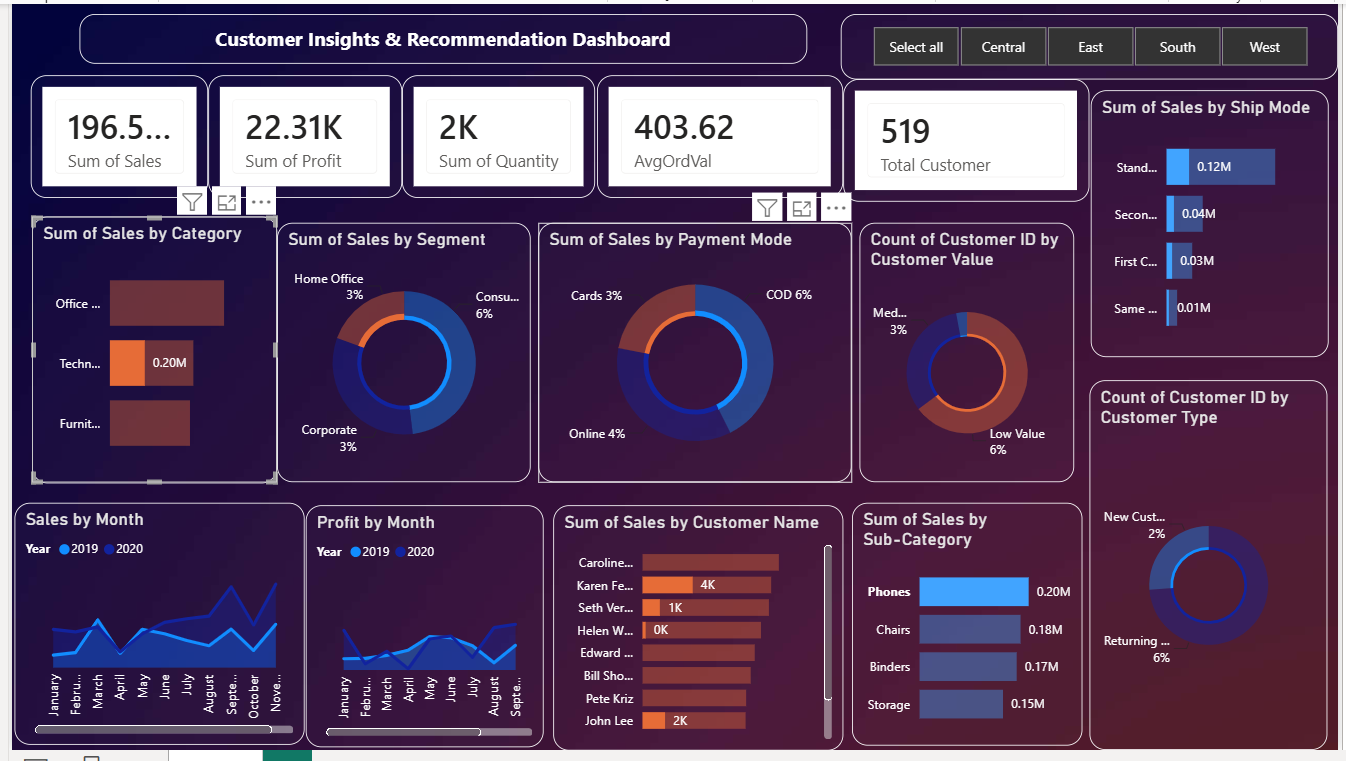

This screenshot's page, from the dashboard's own definition file:
{"tool":"powerbi","page":{"name":"Page 1","canvas":[1280,720],"ordinal":0},"visuals":[{"type":"clusteredBarChart","fields":{"Category":["SuperStore_Sales_Dataset.Category"],"Y":["Sum(SuperStore_Sales_Dataset.Sales)"]},"box":[19.6,204.5,236.7,257.7],"z":0},{"type":"clusteredBarChart","fields":{"Category":["SuperStore_Sales_Dataset.Sub-Category"],"Y":["Sum(SuperStore_Sales_Dataset.Sales)"]},"box":[811,481.6,222.3,234.6],"z":1000},{"type":"clusteredBarChart","fields":{"Category":["SuperStore_Sales_Dataset.Ship Mode"],"Y":["Sum(SuperStore_Sales_Dataset.Sales)"]},"box":[1040.8,82.6,229.7,257.7],"z":2000},{"type":"areaChart","title":" Sales by Month","fields":{"Y":["Sum(SuperStore_Sales_Dataset.Sales)"],"Category":["SuperStore_Sales_Dataset.Order Date.Variation.Date Hierarchy.Month","SuperStore_Sales_Dataset.Order Date.Variation.Date Hierarchy.Day"],"Series":["SuperStore_Sales_Dataset.Order Date.Variation.Date Hierarchy.Year"]},"box":[2.8,481.9,280.1,233.9],"z":3000},{"type":"areaChart","title":"Profit by Month ","fields":{"Category":["SuperStore_Sales_Dataset.Order Date.Variation.Date Hierarchy.Month","SuperStore_Sales_Dataset.Order Date.Variation.Date Hierarchy.Day"],"Series":["SuperStore_Sales_Dataset.Order Date.Variation.Date Hierarchy.Year"],"Y":["Sum(SuperStore_Sales_Dataset.Profit)"]},"box":[283,483.3,229.7,233.9],"z":4000},{"type":"donutChart","fields":{"Category":["SuperStore_Sales_Dataset.Segment"],"Y":["Sum(SuperStore_Sales_Dataset.Sales)"]},"box":[256.3,211.5,245.1,250.7],"z":5000},{"type":"donutChart","fields":{"Category":["SuperStore_Sales_Dataset.Payment Mode"],"Y":["Sum(SuperStore_Sales_Dataset.Sales)"]},"box":[508.5,211.5,302.6,250.7],"z":6000},{"type":"slicer","fields":{"Values":["SuperStore_Sales_Dataset.Region"]},"box":[800,9.6,480.3,63.1],"z":7000},{"type":"cardVisual","fields":{"Data":["Sum(SuperStore_Sales_Dataset.Sales)"]},"box":[18.1,68.8,171.3,118.2],"z":8000},{"type":"cardVisual","fields":{"Data":["Sum(SuperStore_Sales_Dataset.Profit)"]},"box":[189.4,68.8,187,118.2],"z":9000},{"type":"cardVisual","fields":{"Data":["Sum(SuperStore_Sales_Dataset.Quantity)"]},"box":[376,68.6,186.6,118],"z":10000},{"type":"cardVisual","fields":{"Data":["SuperStore_Sales_Dataset.AvgOrdVal"]},"box":[564.6,68.8,237.7,118.2],"z":11000},{"type":"cardVisual","fields":{"Data":["CountNonNull(SuperStore_Sales_Dataset.Customer Name)"]},"box":[802.7,72.7,237.4,118],"z":12000},{"type":"donutChart","fields":{"Category":["SuperStore_Sales_Dataset.Customer Type"],"Y":["CountNonNull(SuperStore_Sales_Dataset.Customer ID)"]},"box":[1039.4,362.8,229.7,357.2],"z":13000},{"type":"donutChart","fields":{"Category":["SuperStore_Sales_Dataset.Customer Value"],"Y":["CountNonNull(SuperStore_Sales_Dataset.Customer ID)"]},"box":[818,211.5,207.3,250.7],"z":13001},{"type":"clusteredBarChart","fields":{"Category":["SuperStore_Sales_Dataset.Customer Name"],"Y":["Sum(SuperStore_Sales_Dataset.Sales)"]},"box":[522.5,483.3,280.1,236.7],"z":13002},{"type":"textbox","box":[65.1,9.7,702.1,48.3],"z":13003}]}

Visuals, with their boxes in screenshot pixels (x1, y1, x2, y2), scaled from the page's 1280x720 canvas onto the 1346x761 screenshot:
clusteredBarChart - SuperStore_Sales_Dataset.Category x Sum(SuperStore_Sales_Dataset.Sales): select_region(21, 216, 270, 489)
clusteredBarChart - SuperStore_Sales_Dataset.Sub-Category x Sum(SuperStore_Sales_Dataset.Sales): select_region(853, 509, 1087, 757)
clusteredBarChart - SuperStore_Sales_Dataset.Ship Mode x Sum(SuperStore_Sales_Dataset.Sales): select_region(1094, 87, 1336, 360)
" Sales by Month" areaChart: select_region(3, 509, 297, 757)
"Profit by Month " areaChart: select_region(298, 511, 539, 758)
donutChart - SuperStore_Sales_Dataset.Segment x Sum(SuperStore_Sales_Dataset.Sales): select_region(270, 224, 527, 489)
donutChart - SuperStore_Sales_Dataset.Payment Mode x Sum(SuperStore_Sales_Dataset.Sales): select_region(535, 224, 853, 489)
slicer - SuperStore_Sales_Dataset.Region: select_region(841, 10, 1345, 77)
cardVisual - Sum(SuperStore_Sales_Dataset.Sales): select_region(19, 73, 199, 198)
cardVisual - Sum(SuperStore_Sales_Dataset.Profit): select_region(199, 73, 396, 198)
cardVisual - Sum(SuperStore_Sales_Dataset.Quantity): select_region(395, 73, 592, 197)
cardVisual - SuperStore_Sales_Dataset.AvgOrdVal: select_region(594, 73, 844, 198)
cardVisual - CountNonNull(SuperStore_Sales_Dataset.Customer Name): select_region(844, 77, 1094, 202)
donutChart - SuperStore_Sales_Dataset.Customer Type x CountNonNull(SuperStore_Sales_Dataset.Customer ID): select_region(1093, 383, 1335, 760)
donutChart - SuperStore_Sales_Dataset.Customer Value x CountNonNull(SuperStore_Sales_Dataset.Customer ID): select_region(860, 224, 1078, 489)
clusteredBarChart - SuperStore_Sales_Dataset.Customer Name x Sum(SuperStore_Sales_Dataset.Sales): select_region(549, 511, 844, 760)
textbox: select_region(68, 10, 807, 61)
